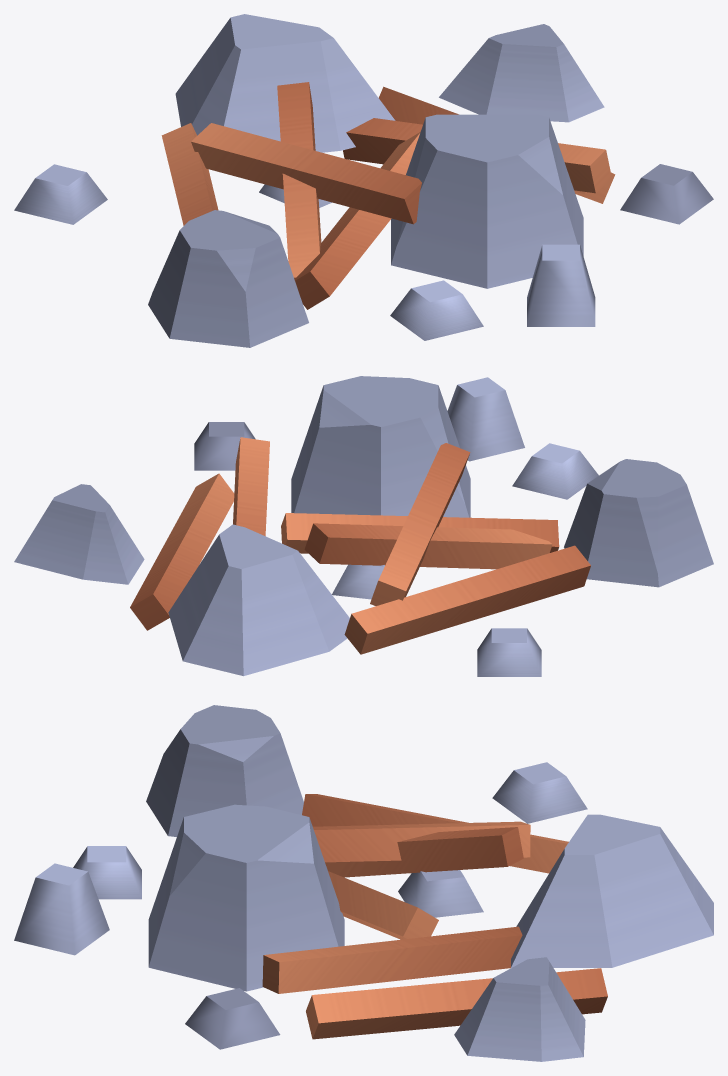
Rendered from dam.fbx.
3 renders of one model, top to bottom at view 1: azimuth 30°, elevation 25°; view 2: azimuth 150°, elevation 25°; view 3: azimuth 270°, elevation 25°, orthographic. The views are drawn at different scales.
Parts seen in each view (by area): view 1: water_rocks, unit_ship; view 2: water_rocks, unit_ship; view 3: water_rocks, unit_ship.
Part boxes in pixels (x1,y1,x2,y2): water_rocks: (14,14,713,347); unit_ship: (161,82,615,309); water_rocks: (14,376,713,676); unit_ship: (130,437,590,654); water_rocks: (14,705,713,1061); unit_ship: (262,794,607,1039).
Bounding box in the file's own units: 87.72 × 20.35 × 90.78.
Materials: 2 (2 with a texture image).
